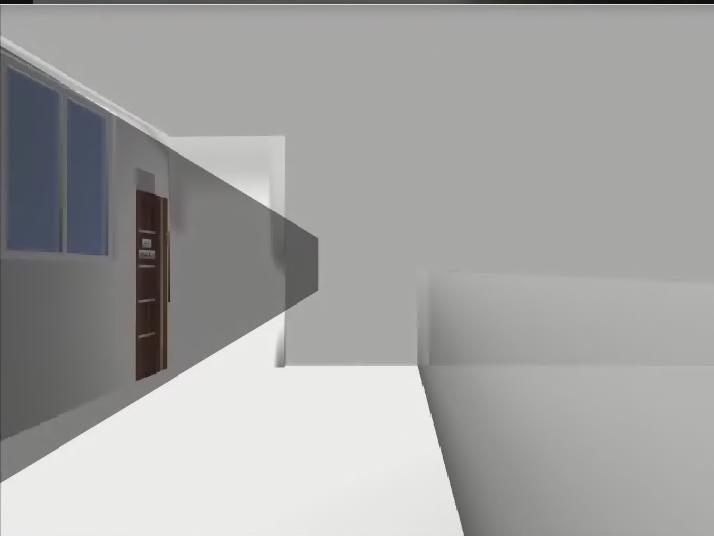door: (137, 190, 171, 380)
